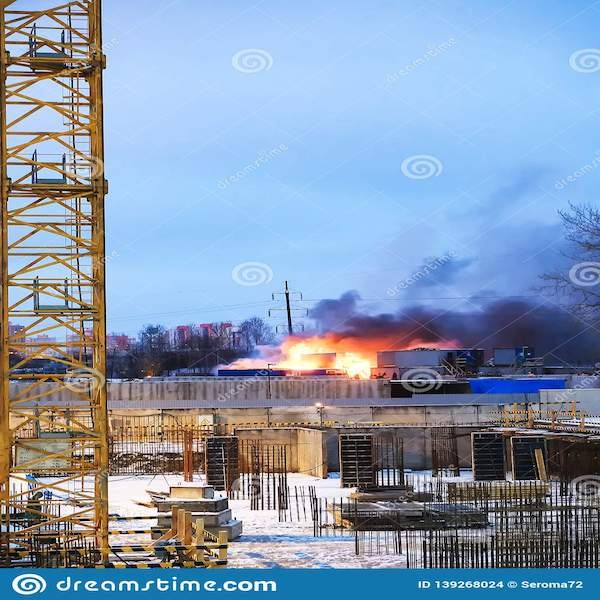fire: (244, 342, 373, 380)
